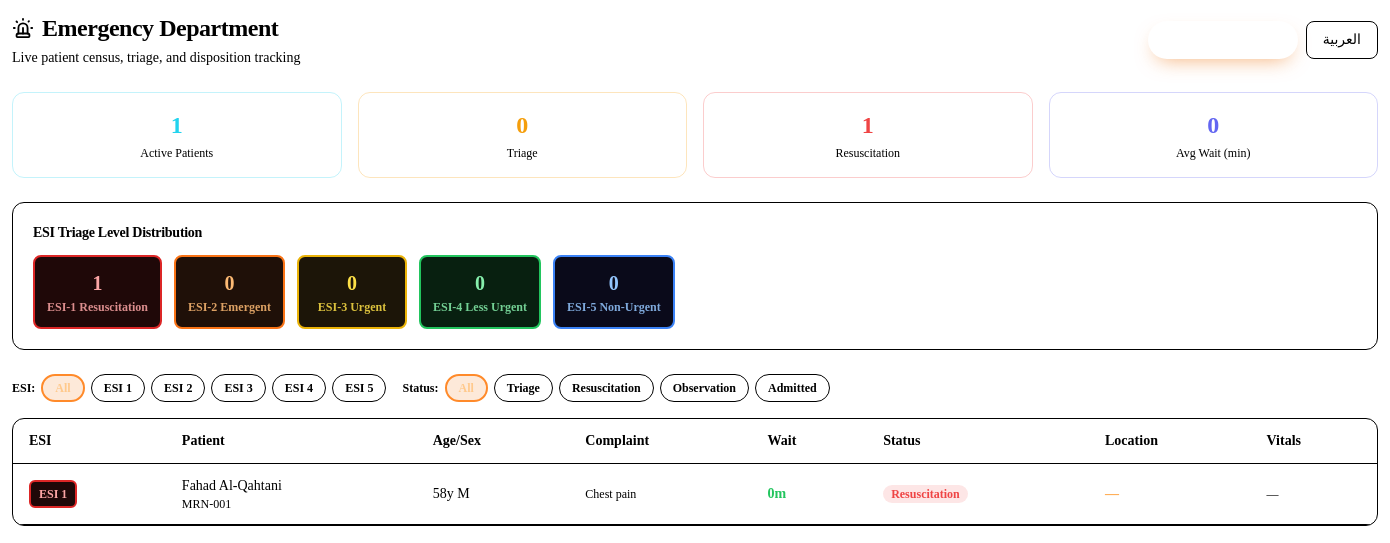
EmergencyPage › language toggle switches heading to Arabic
This screenshot has width=1390, height=543.
Check: the heading "Emergency Department" is shown, box [12,12,300,44]
Click the button "العربية".
click(1342, 40)  # box [1306,21,1378,59]
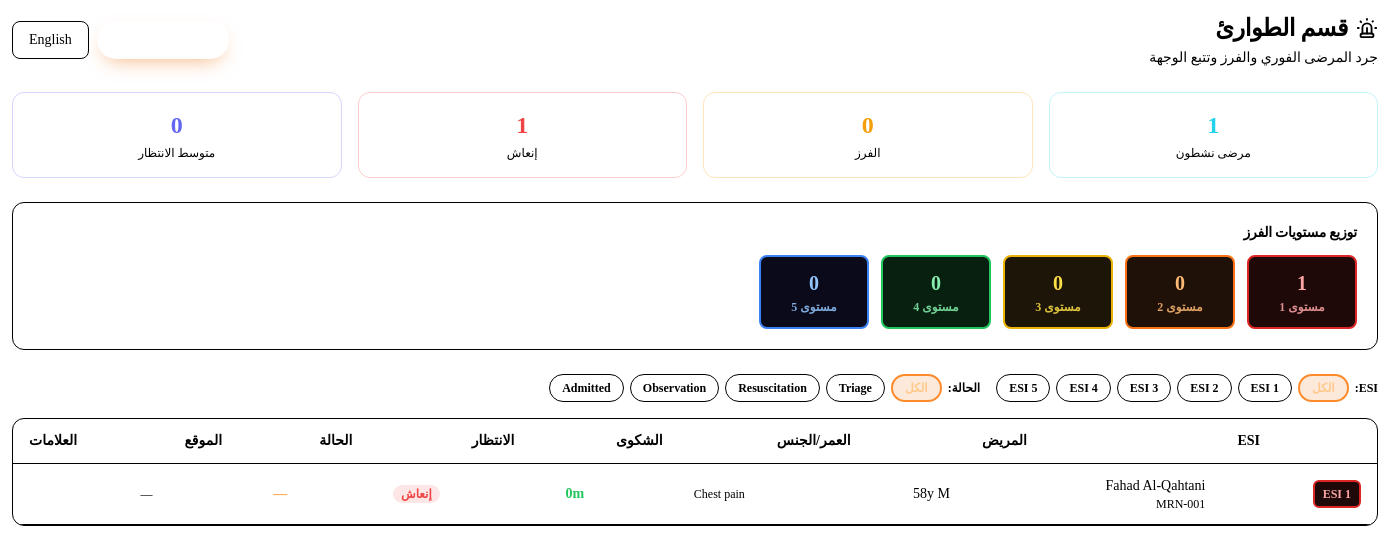
Check: the heading "قسم الطوارئ" is shown, box [1215,15,1378,41]
